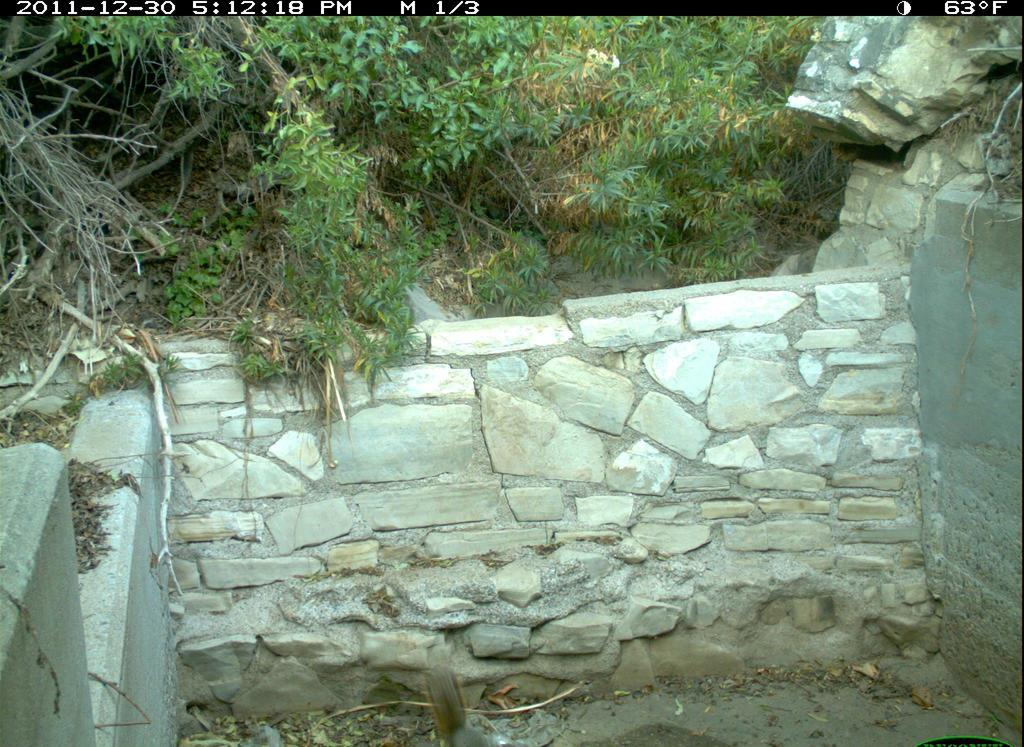squirrel: (416, 661, 513, 747)
